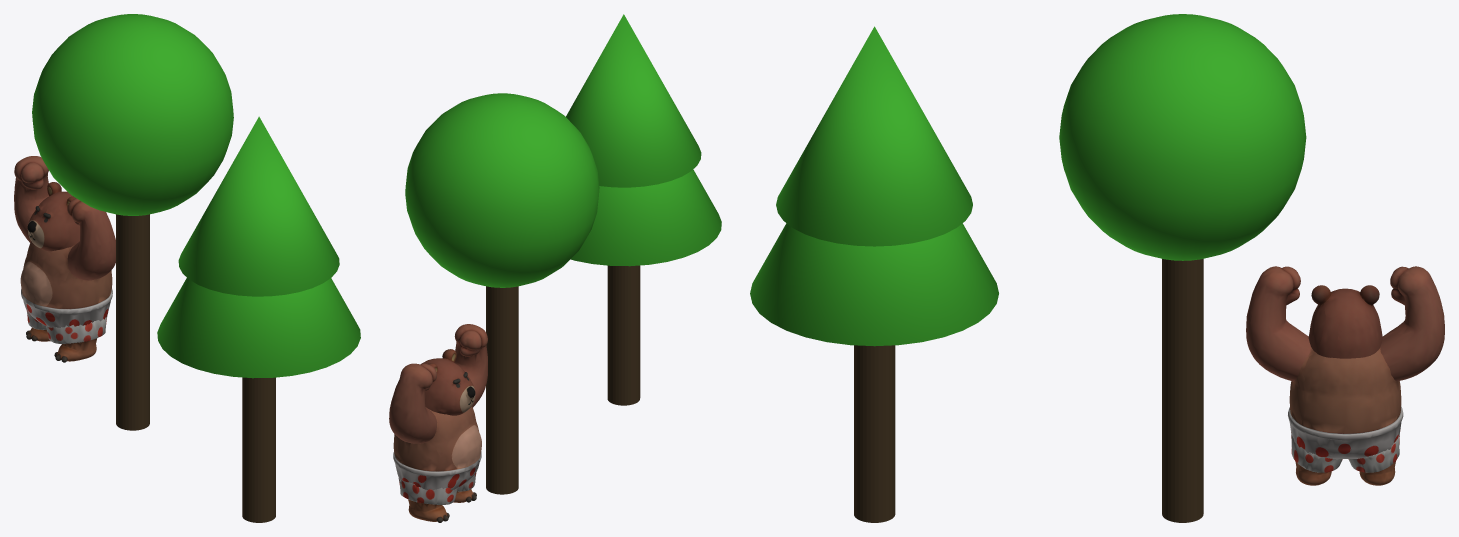
The model's file is Tree2.glb.
3 renders of one model, left to right at view 1: azimuth 30°, elevation 25°; view 2: azimuth 150°, elevation 25°; view 3: azimuth 270°, elevation 25°, orthographic. The views are drawn at different scales.
Visible parts, largest first — view 1: Tree2, Tree1, torso_geom, left arm_geom, head_geom, right arm_geom, left leg_geom, right leg_geom; view 2: Tree2, Tree1, torso_geom, right arm_geom, head_geom, left arm_geom, right leg_geom, left leg_geom; view 3: Tree2, Tree1, torso_geom, right arm_geom, left arm_geom, head_geom, right leg_geom, left leg_geom.
Part boxes in pixels (x1,y1,x2,y2): Tree2: (32, 14, 233, 430); Tree1: (157, 116, 360, 522); torso_geom: (20, 241, 112, 327); left arm_geom: (67, 198, 115, 280); head_geom: (27, 182, 79, 251); right arm_geom: (14, 156, 48, 242); left leg_geom: (46, 317, 106, 362); right leg_geom: (26, 311, 50, 341); Tree2: (405, 93, 599, 494); Tree1: (566, 14, 721, 405); torso_geom: (393, 406, 481, 490); right arm_geom: (389, 363, 437, 443); head_geom: (420, 349, 475, 415); left arm_geom: (454, 324, 487, 407); right leg_geom: (398, 478, 457, 522); left leg_geom: (453, 473, 476, 502); Tree2: (1059, 14, 1306, 522); Tree1: (750, 26, 998, 522); torso_geom: (1288, 347, 1403, 459); right arm_geom: (1380, 266, 1444, 381); left arm_geom: (1246, 266, 1310, 381); head_geom: (1308, 285, 1382, 358); right leg_geom: (1348, 433, 1399, 485); left leg_geom: (1291, 434, 1342, 485).
Bounding box in the file's own units: 3.76 × 8.14 × 10.48.
9 materials, 6 textured.
